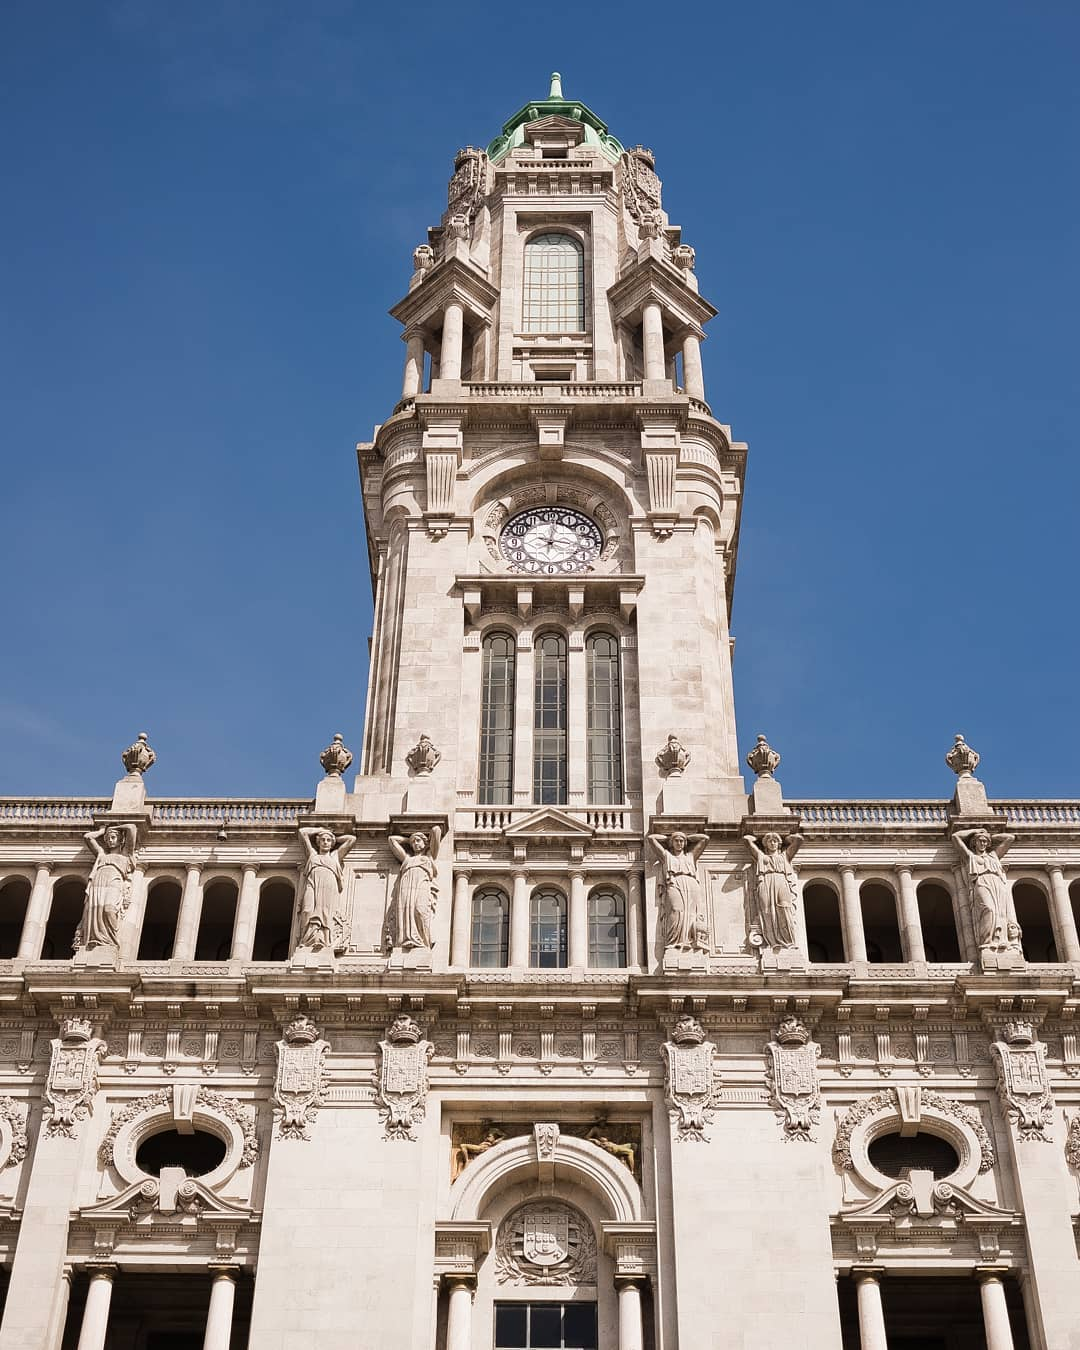camara: (0, 62, 1079, 1349)
